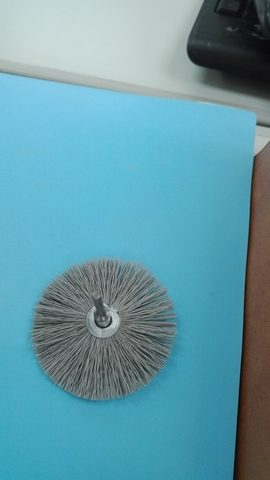TOOL: (1, 209, 179, 416), (24, 251, 172, 388)
